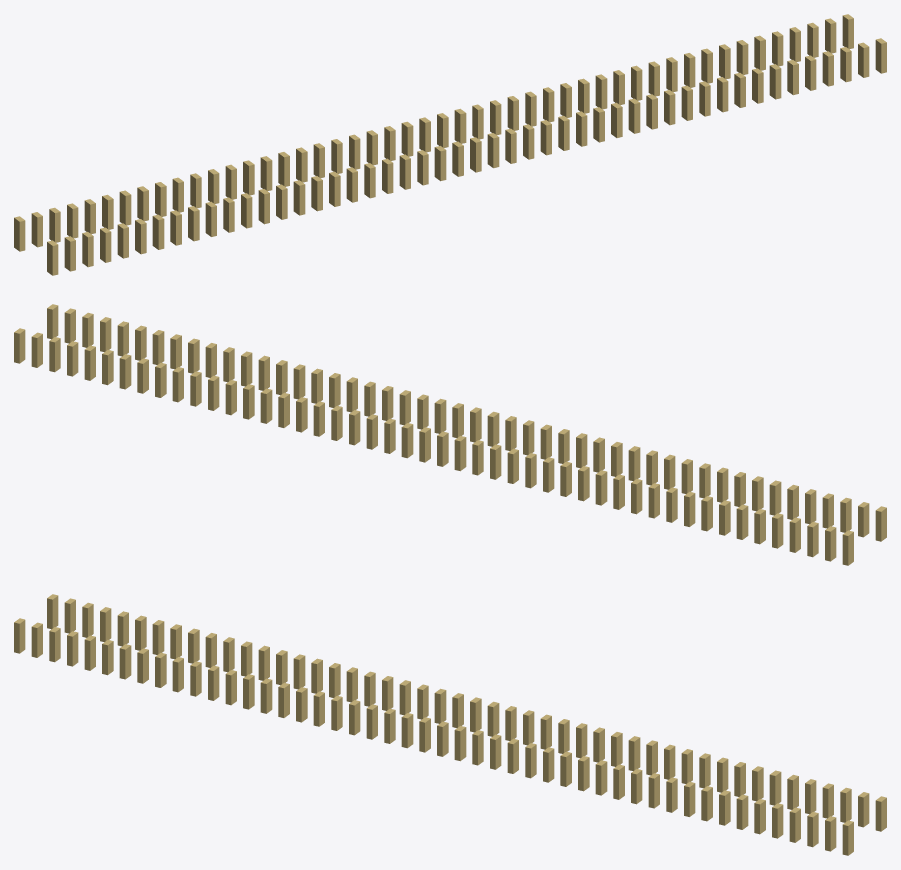
Rendered from 113_L105_PCIe_SpringContacts.glb.
The picture shows the model from 3 angles, top to bottom: view 1: azimuth 30°, elevation 25°; view 2: azimuth 150°, elevation 25°; view 3: azimuth 330°, elevation 25°; orthographic projection.
Parts seen in each view (by area): view 1: PCIe_SpringContacts_gold_0; view 2: PCIe_SpringContacts_gold_0; view 3: PCIe_SpringContacts_gold_0.
Boxes of the visible parts, left/top/right/bottom form: PCIe_SpringContacts_gold_0: left=14, top=14, right=886, bottom=275; PCIe_SpringContacts_gold_0: left=14, top=304, right=886, bottom=565; PCIe_SpringContacts_gold_0: left=14, top=594, right=886, bottom=855.
Bounding box in the file's own units: 0.0584 × 0.002 × 0.0047.
